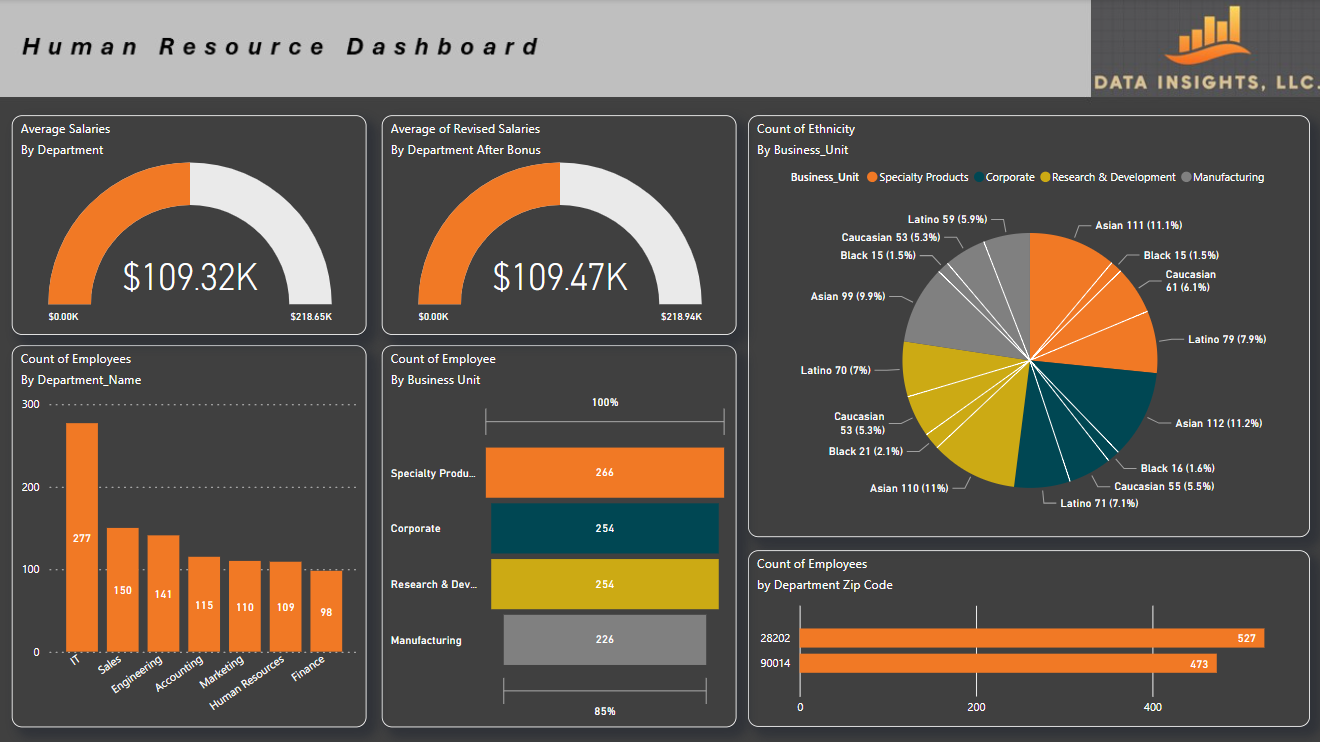

The dashboard page shown, as its layout file describes it:
{"tool":"powerbi","page":{"name":"Project 4","canvas":[1280,720],"ordinal":0},"visuals":[{"type":"pieChart","title":"Count of Ethnicity","fields":{"Category":["EmployeeSampleDataCSV.Business_Unit"],"Y":["CountNonNull(EmployeeSampleDataCSV.Ethnicity)"],"Series":["EmployeeSampleDataCSV.Ethnicity"]},"box":[723.5,111.8,542.6,407.4],"z":0},{"type":"clusteredBarChart","title":"Count of Employees","fields":{"Y":["CountNonNull(EmployeeSampleDataCSV.Employee_ID)"],"Category":["DepartmentSampleDataCSV.Dept_Zip"]},"box":[723.5,532.4,542.6,170.6],"z":1000},{"type":"funnel","title":"Count of Employee","fields":{"Y":["CountNonNull(EmployeeSampleDataCSV.Employee_ID)"],"Category":["EmployeeSampleDataCSV.Business_Unit"]},"box":[370.6,333.8,342.6,369.1],"z":2000},{"type":"clusteredColumnChart","title":"Count of Employees","fields":{"Category":["DepartmentSampleDataCSV.Department_Name"],"Y":["CountNonNull(EmployeeSampleDataCSV.Employee_ID)"]},"box":[13.2,333.8,342.6,369.1],"z":3000},{"type":"gauge","title":"Average Salaries","fields":{"Y":["Avg(EmployeeSampleDataCSV.Annual_Salary)"]},"box":[13.2,111.8,342.6,211.8],"z":4000},{"type":"gauge","title":"Average of Revised Salaries","fields":{"Y":["Avg(EmployeeSampleDataCSV.Revised Sal)"]},"box":[370.6,111.8,342.6,211.8],"z":5000}]}

Visuals, with their boxes in screenshot pixels (x1, y1, x2, y2), scaled from the page's 1280x720 canvas onto the 1320x742 screenshot:
"Count of Ethnicity" pieChart: (x1=746, y1=115, x2=1306, y2=535)
"Count of Employees" clusteredBarChart: (x1=746, y1=549, x2=1306, y2=724)
"Count of Employee" funnel: (x1=382, y1=344, x2=735, y2=724)
"Count of Employees" clusteredColumnChart: (x1=14, y1=344, x2=367, y2=724)
"Average Salaries" gauge: (x1=14, y1=115, x2=367, y2=333)
"Average of Revised Salaries" gauge: (x1=382, y1=115, x2=735, y2=333)
